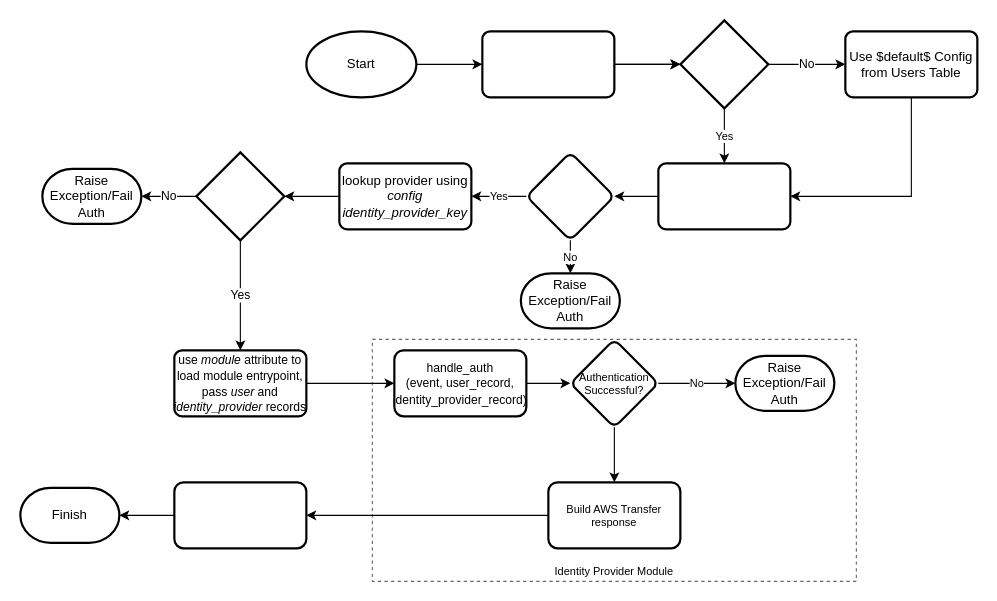
This 997x601 diagram has some shape labels left out. Each missing label, with the centre of its shape:
check if client IP is with ipv4_allow_list attribute: point (724, 196)
IP allowed?: point (570, 196)
Lookup username in users table: point (548, 64)
Provider Exists?: point (240, 196)
Return AWS Transfer response: point (240, 515)
User Exists?: point (724, 64)
